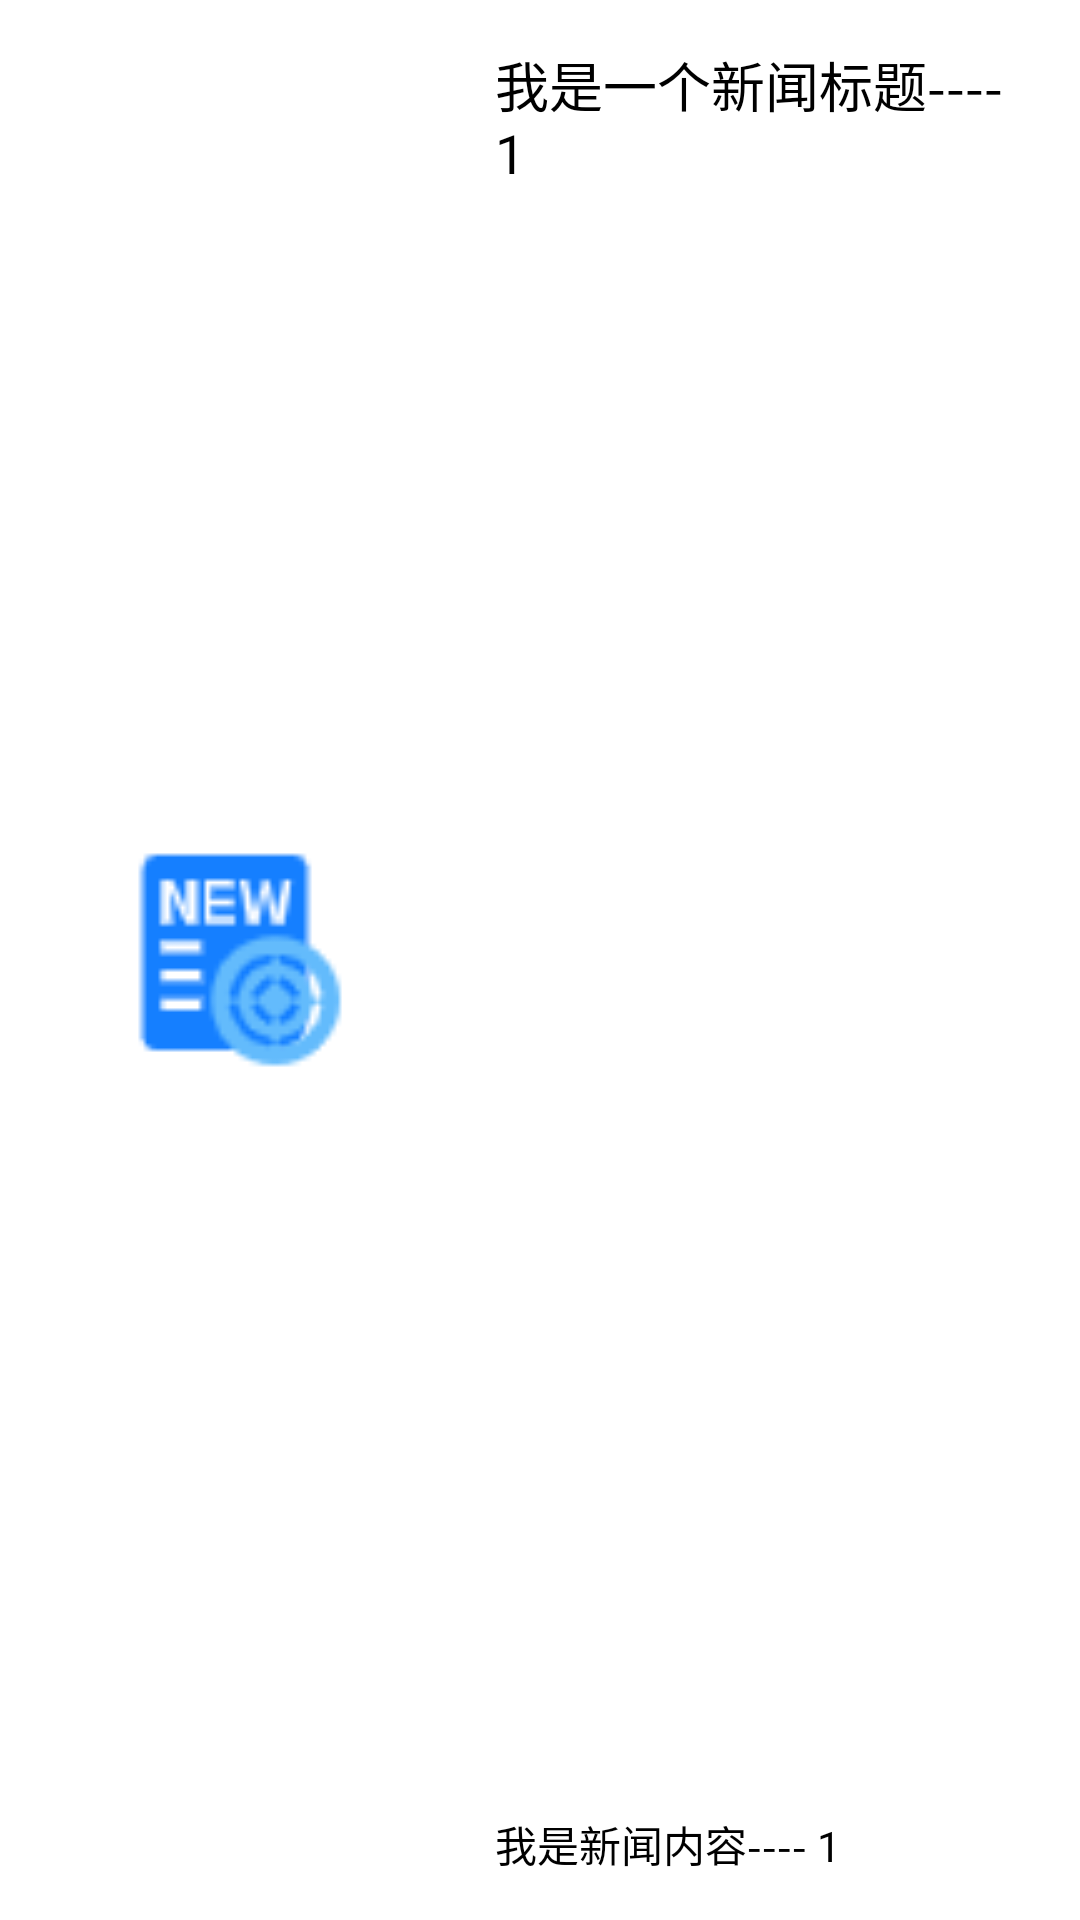

Icon click points for this 1080 × 1920 phone screenshot, format point (x, y):
news: point (240, 960)
